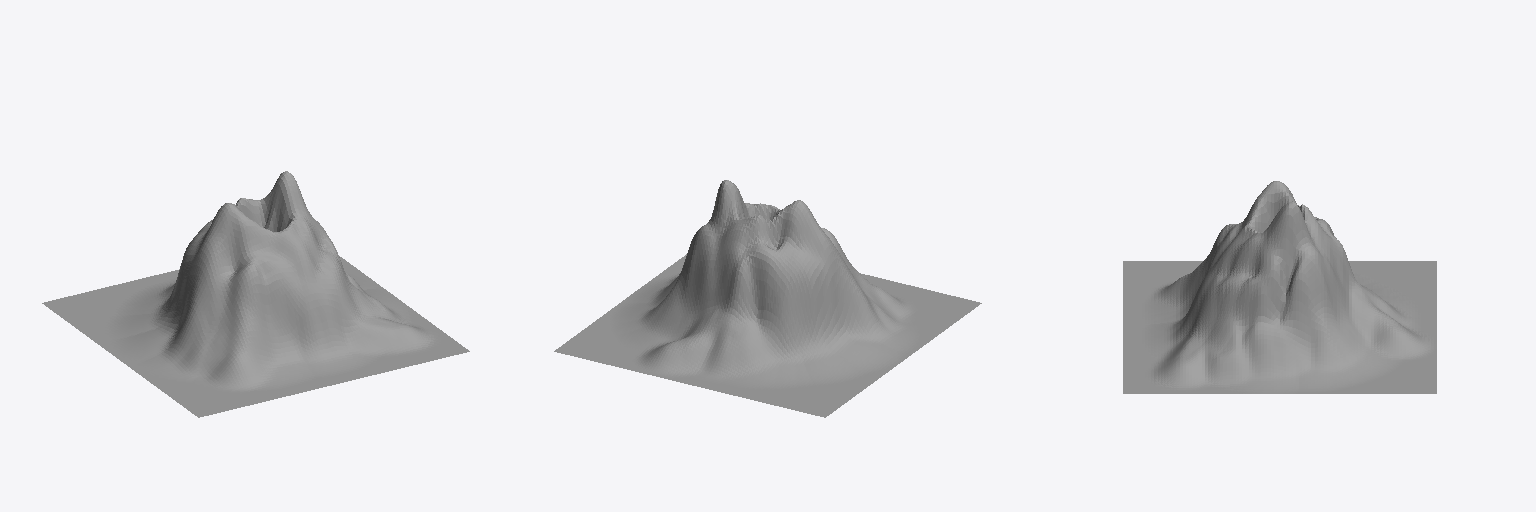
File: VolcanoTiny.obj
3 renders of one model, left to right at view 1: azimuth 30°, elevation 25°; view 2: azimuth 150°, elevation 25°; view 3: azimuth 270°, elevation 25°, orthographic.
Visible parts, largest first — view 1: volcano:Mesh; view 2: volcano:Mesh; view 3: volcano:Mesh.
Boxes of the visible parts, x1,y1,x2,y2 form: volcano:Mesh: [42, 171, 469, 417]; volcano:Mesh: [554, 180, 981, 417]; volcano:Mesh: [1123, 181, 1436, 393].
Bounding box in the file's own units: 6.74 × 3.38 × 6.74.